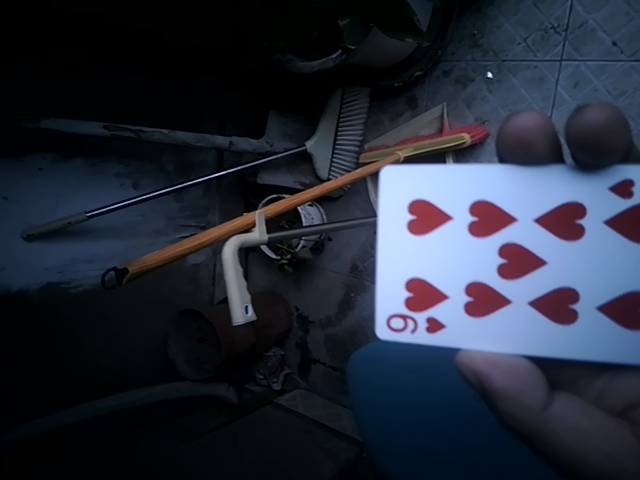hx 9: (364, 159, 640, 365)
